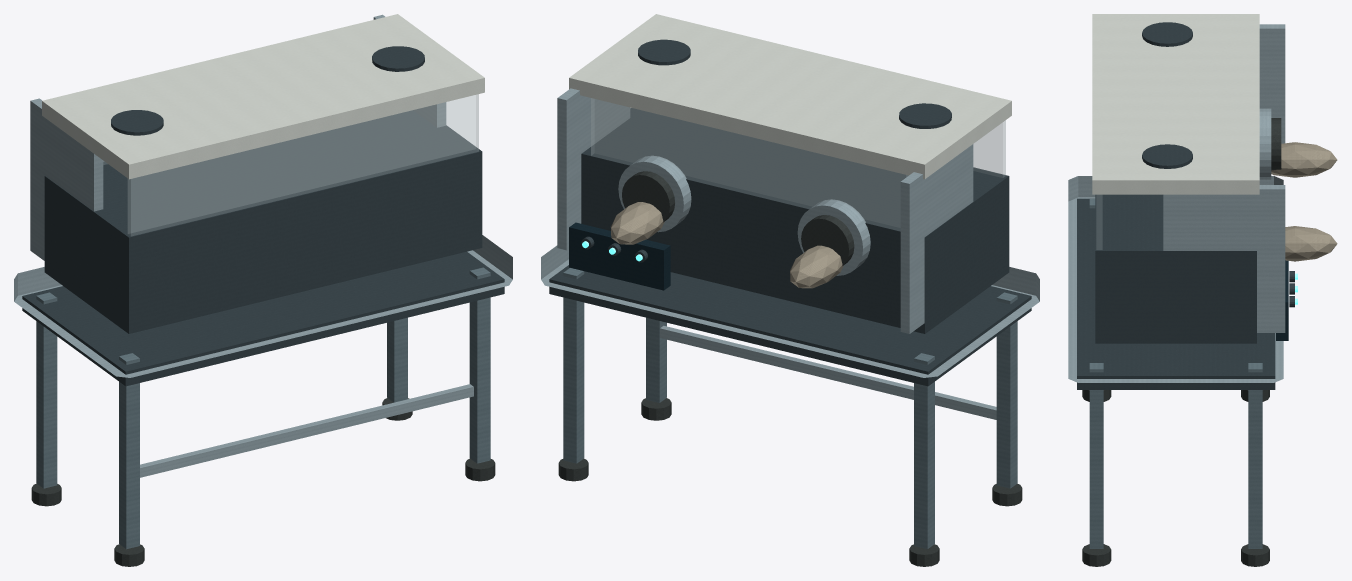
Rendered from sample_analysis_station.glb.
3 views of the same model, side by side, from view 1: azimuth 30°, elevation 25°; view 2: azimuth 150°, elevation 25°; view 3: azimuth 270°, elevation 25° (orthographic). The views are drawn at different scales.
Visible parts, largest first — view 1: Sealed_Chamber_Frame__graphite, Glovebox_Roof__shell, static__graphite, Transparent_Glovebox__clear, static__trim, Frame_Rails__alloy, work_surface__alloy, static__alloy, Filter_Ports__graphite, feet__rubber; view 2: Sealed_Chamber_Frame__graphite, Glovebox_Roof__shell, static__graphite, Transparent_Glovebox__clear, static__trim, Frame_Rails__alloy, work_surface__alloy, static__alloy, Control__screen, Glove_Ports__alloy, Gloves__fabricwarm, Glove_Cuffs__rubber (+2 smaller); view 3: Glovebox_Roof__shell, Sealed_Chamber_Frame__graphite, Frame_Rails__alloy, static__graphite, static__trim, work_surface__alloy, Gloves__fabricwarm, Filter_Ports__graphite, feet__rubber, Glove_Ports__alloy, Glove_Cuffs__rubber, Control__screen (+1 smaller).
Part boxes in pixels (box(x1,y1,x2,y2)): Sealed_Chamber_Frame__graphite: box(44, 110, 482, 333); Glovebox_Roof__shell: box(42, 14, 484, 179); static__graphite: box(22, 251, 504, 386); Transparent_Glovebox__clear: box(103, 94, 478, 235); static__trim: box(36, 267, 490, 549); Frame_Rails__alloy: box(30, 14, 446, 260); work_surface__alloy: box(14, 235, 512, 377); static__alloy: box(140, 384, 473, 477); Filter_Ports__graphite: box(111, 46, 424, 135); feet__rubber: box(31, 398, 495, 566); Sealed_Chamber_Frame__graphite: box(581, 108, 1009, 333); Glovebox_Roof__shell: box(569, 14, 1011, 179); static__graphite: box(549, 265, 1031, 386); Transparent_Glovebox__clear: box(591, 98, 1005, 230); static__trim: box(563, 268, 1017, 549); Frame_Rails__alloy: box(557, 88, 973, 333); work_surface__alloy: box(541, 245, 1039, 377); static__alloy: box(660, 325, 996, 419); Control__screen: box(569, 222, 670, 290); Glove_Ports__alloy: box(618, 155, 870, 275); Gloves__fabricwarm: box(611, 202, 843, 288); Glove_Cuffs__rubber: box(622, 171, 854, 265); Glovebox_Roof__shell: box(1092, 14, 1259, 194); Sealed_Chamber_Frame__graphite: box(1095, 194, 1256, 343); Frame_Rails__alloy: box(1163, 24, 1285, 332); static__graphite: box(1077, 198, 1275, 389); static__trim: box(1089, 199, 1262, 548); work_surface__alloy: box(1068, 176, 1283, 382); Gloves__fabricwarm: box(1271, 142, 1337, 261); Filter_Ports__graphite: box(1142, 22, 1192, 168); feet__rubber: box(1082, 390, 1269, 566); Glove_Ports__alloy: box(1259, 108, 1271, 180); Glove_Cuffs__rubber: box(1271, 118, 1281, 170); Control__screen: box(1276, 260, 1288, 340).
Bounding box in the file's own units: 1.55 × 1.5 × 0.95.
10 materials, 9 textured.
